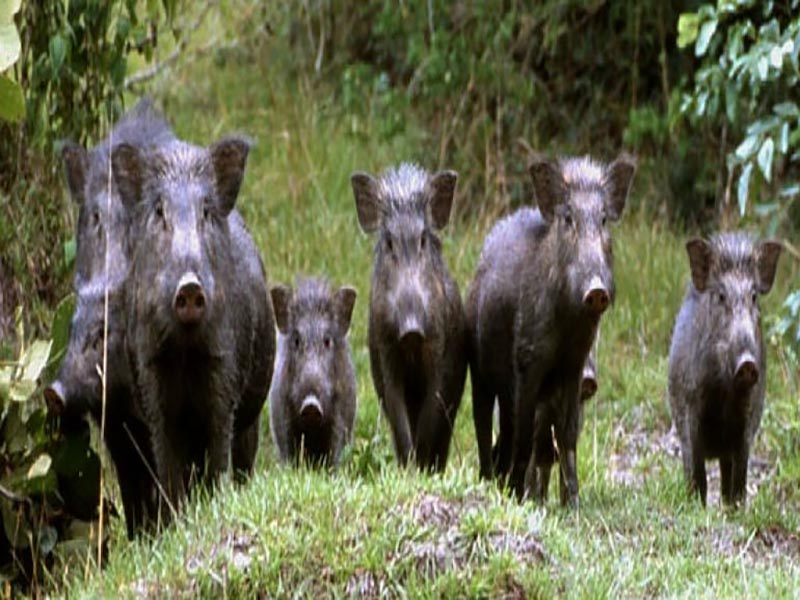cinghiale: (112, 128, 274, 518), (485, 124, 639, 520), (49, 85, 192, 437), (349, 150, 470, 478), (672, 228, 784, 537), (265, 270, 363, 478), (33, 284, 123, 422)
